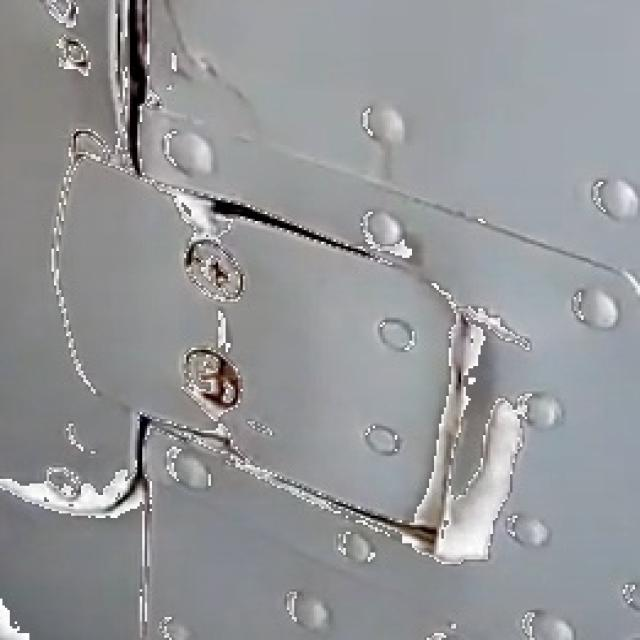crack: (210, 303, 249, 349)
